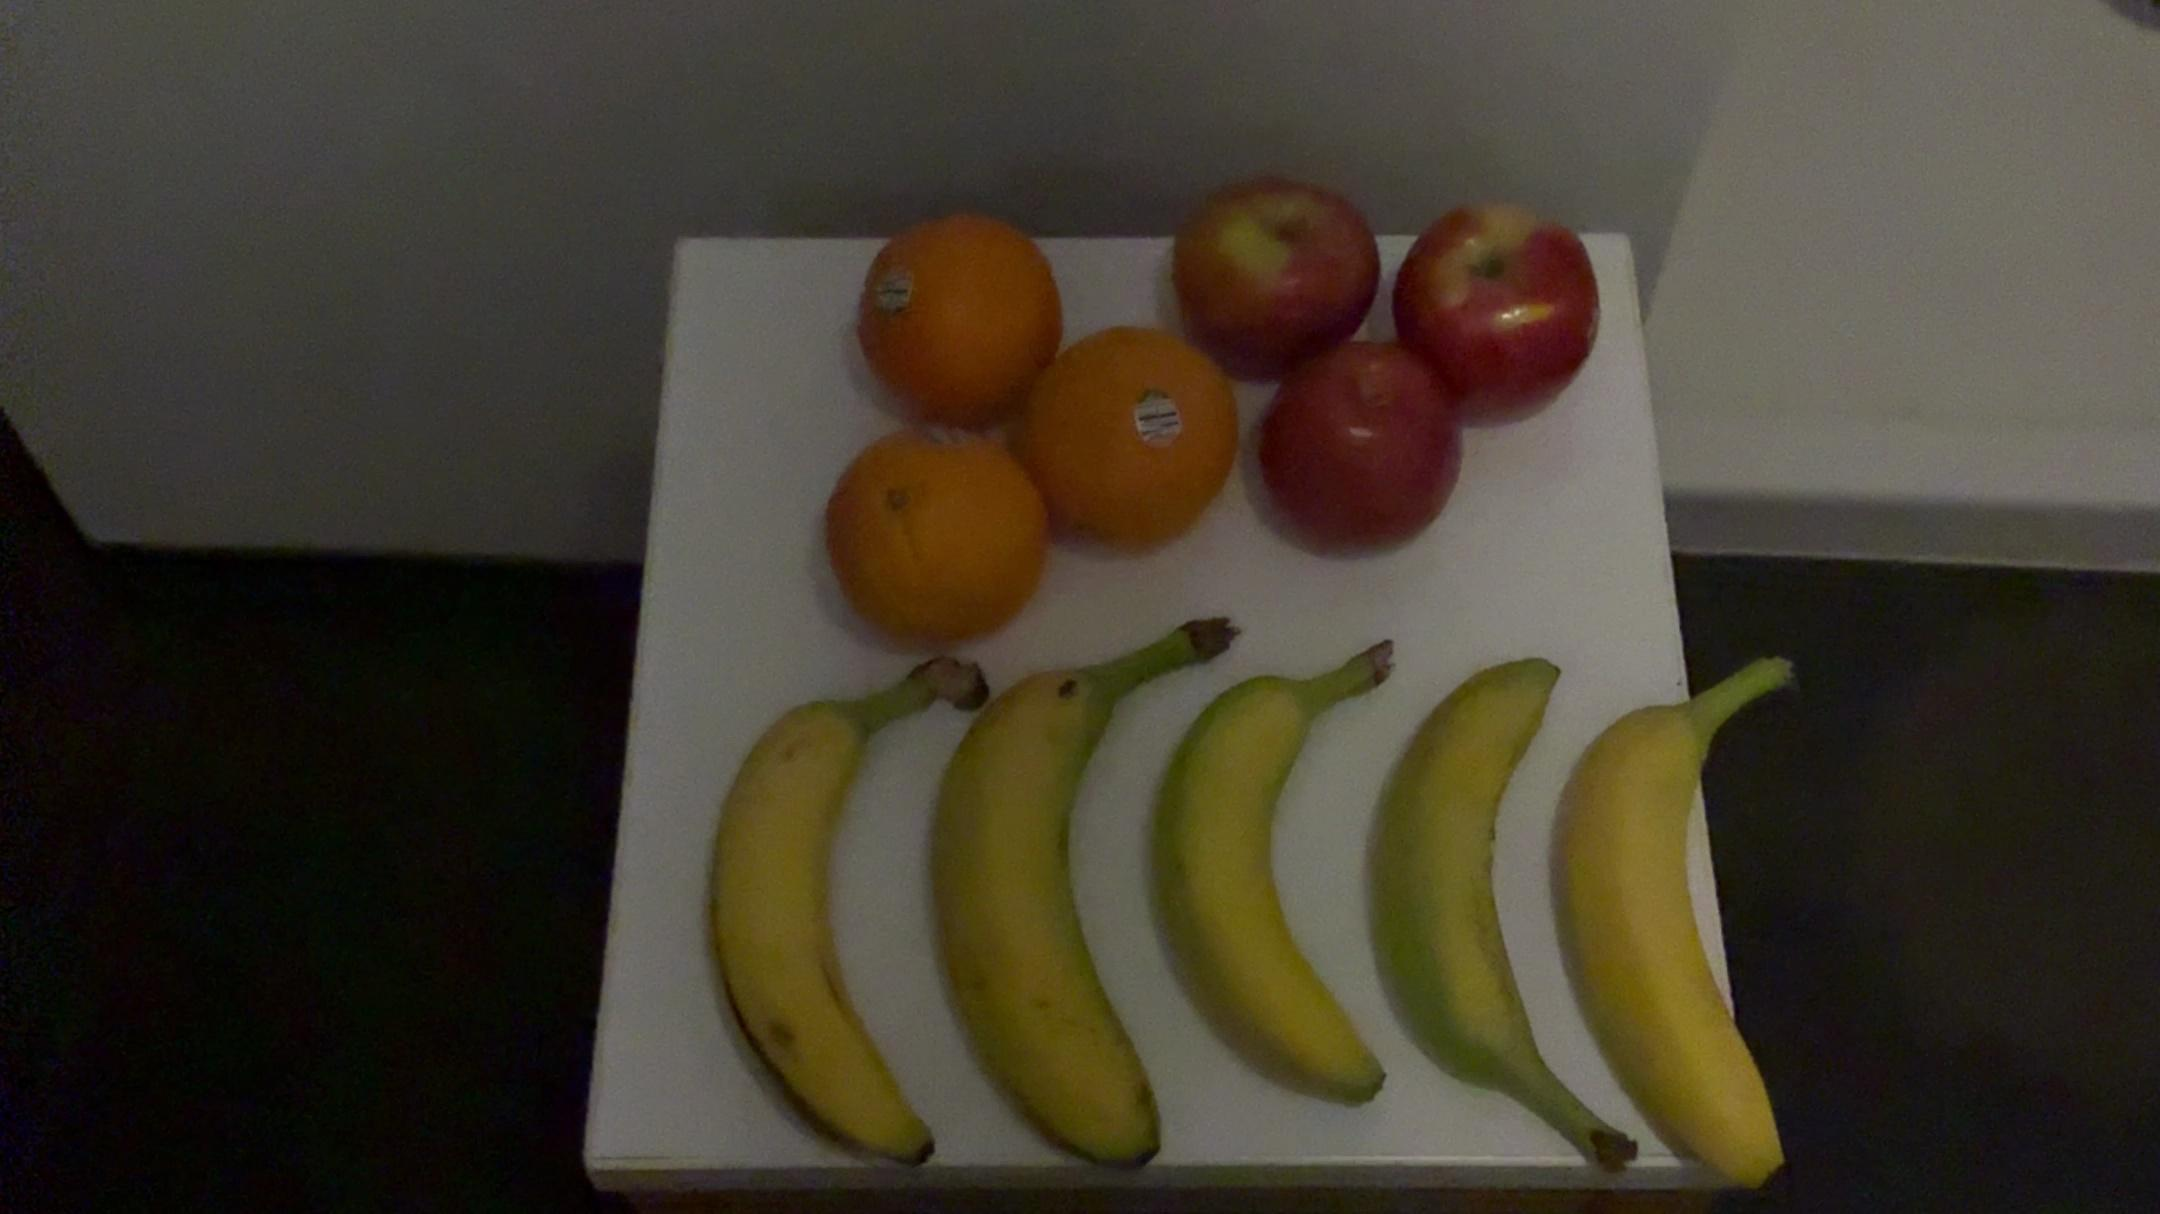apple: (1237, 337, 1476, 564), (1387, 193, 1616, 424), (1168, 160, 1366, 378)
banana: (926, 597, 1219, 1178), (1365, 635, 1639, 1187), (1546, 625, 1802, 1213), (694, 640, 964, 1187), (1157, 617, 1399, 1146)
orange: (811, 407, 1044, 665), (849, 199, 1062, 432), (1031, 324, 1225, 577)
